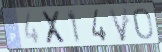1: (66, 9, 81, 45)
4: (23, 10, 43, 47), (91, 8, 109, 43)
O: (132, 7, 155, 41)
V: (107, 6, 129, 43)
X: (40, 10, 69, 46)
